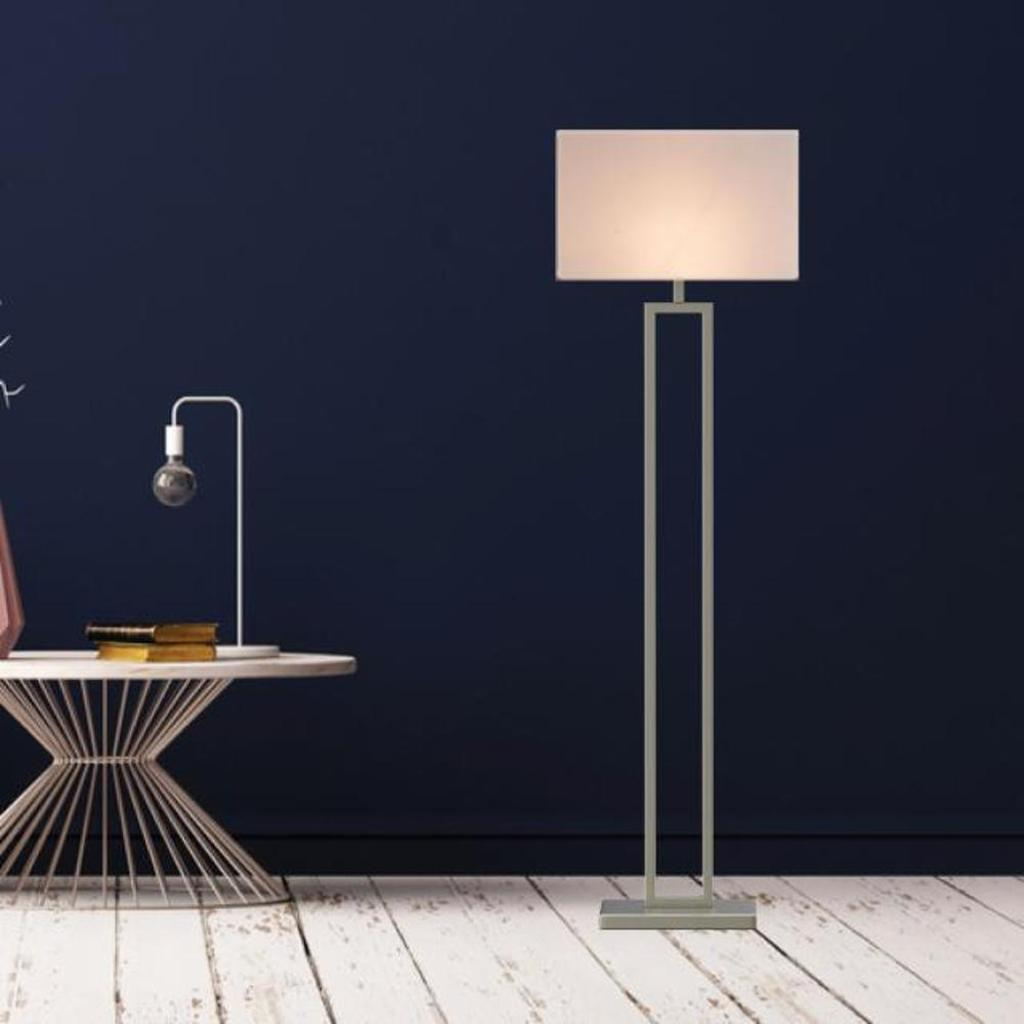shelf: (541, 116, 818, 940), (157, 379, 267, 619)
